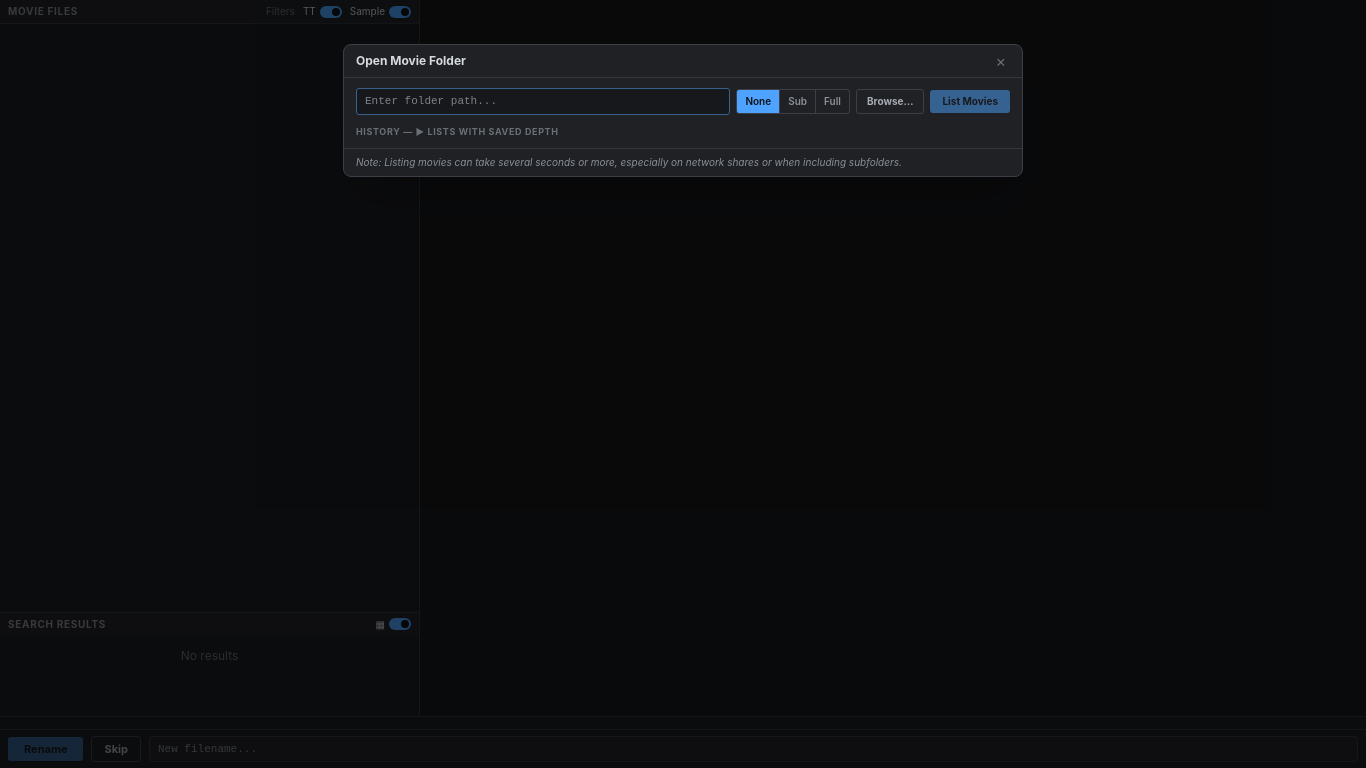
App › keeps the modal open and toasts when a scan fails
Step 1. Type "D:\\bad" into the field with test id "folder-path-input" → (543,101), box [356,88,730,114]
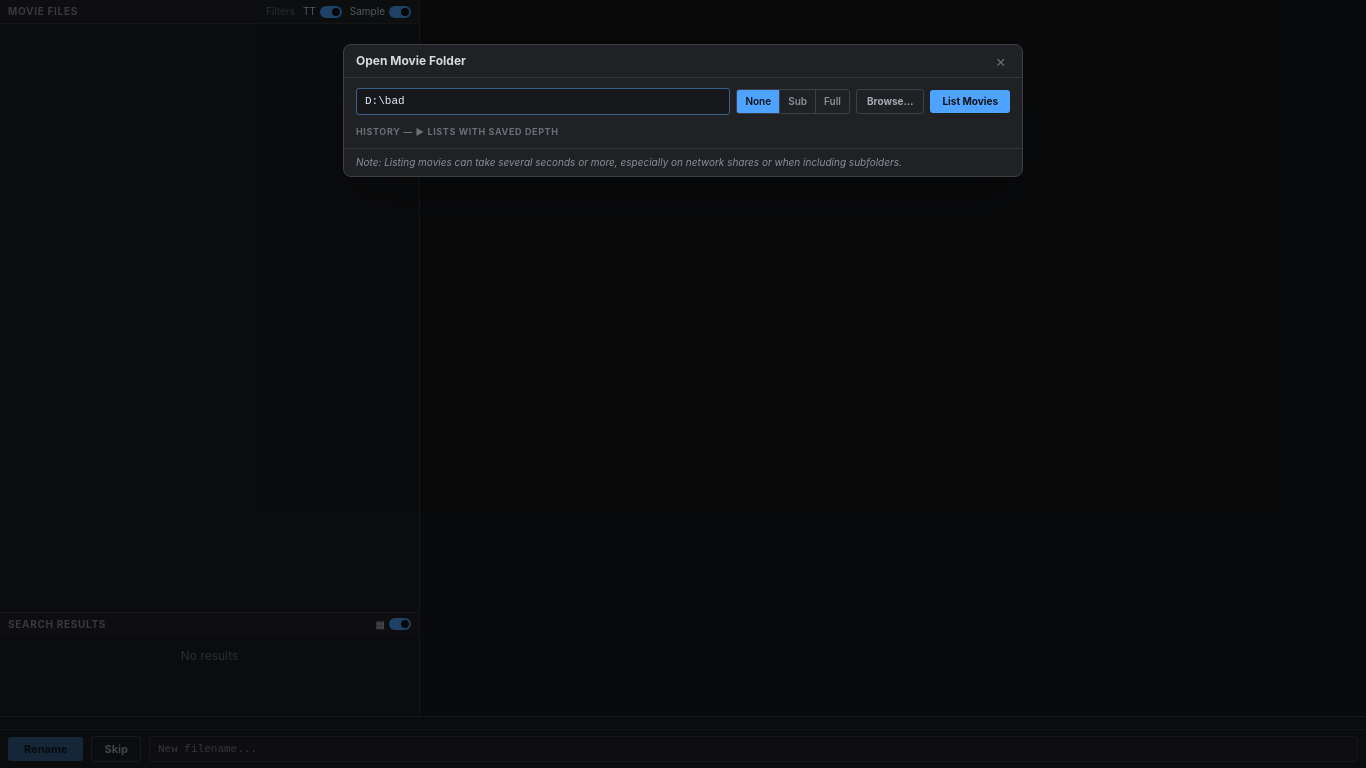
Step 2. Click the button with test id "list-movies-button" → (970,101), box [930,90,1010,113]
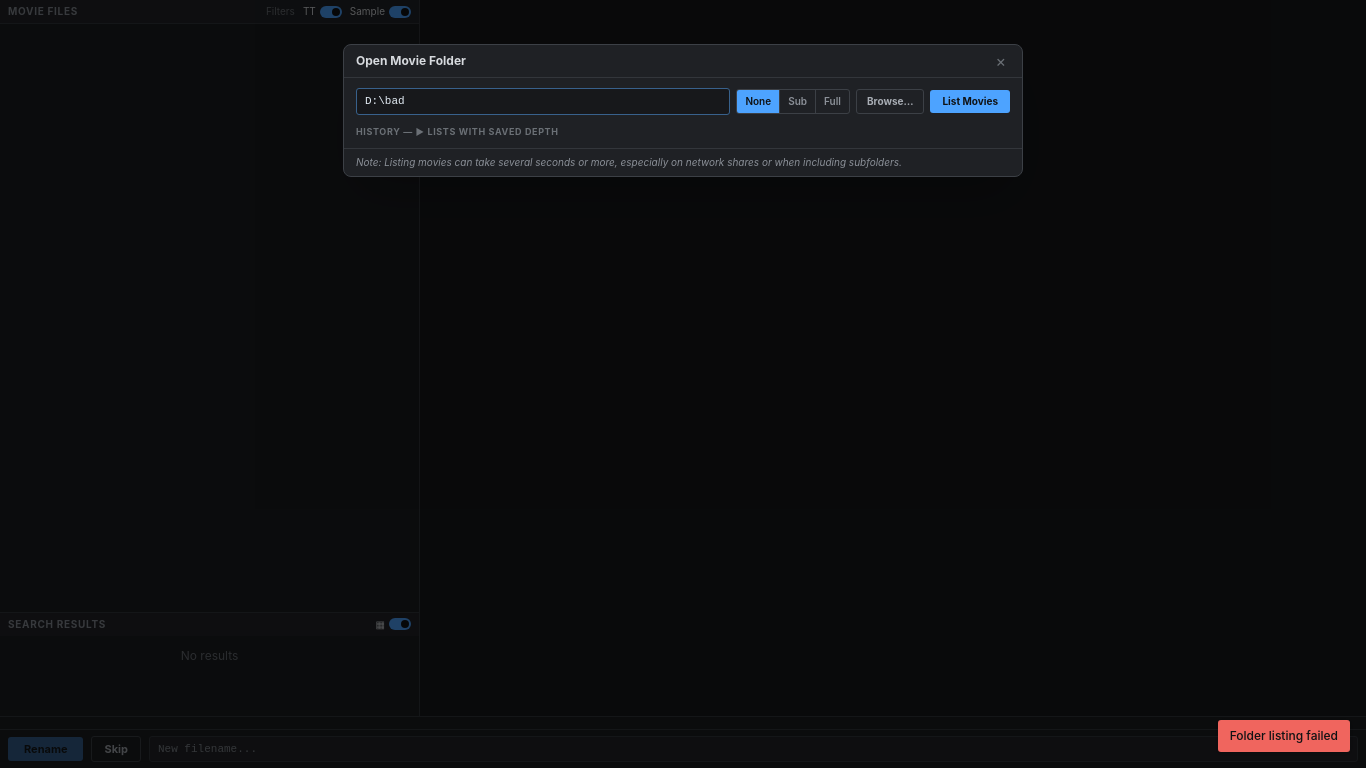
expect the element with test id "open-folder-modal" is shown: met, box [343,44,1023,177]
expect the button "Folder listing failed" is shown: met, box [1218,720,1350,752]
